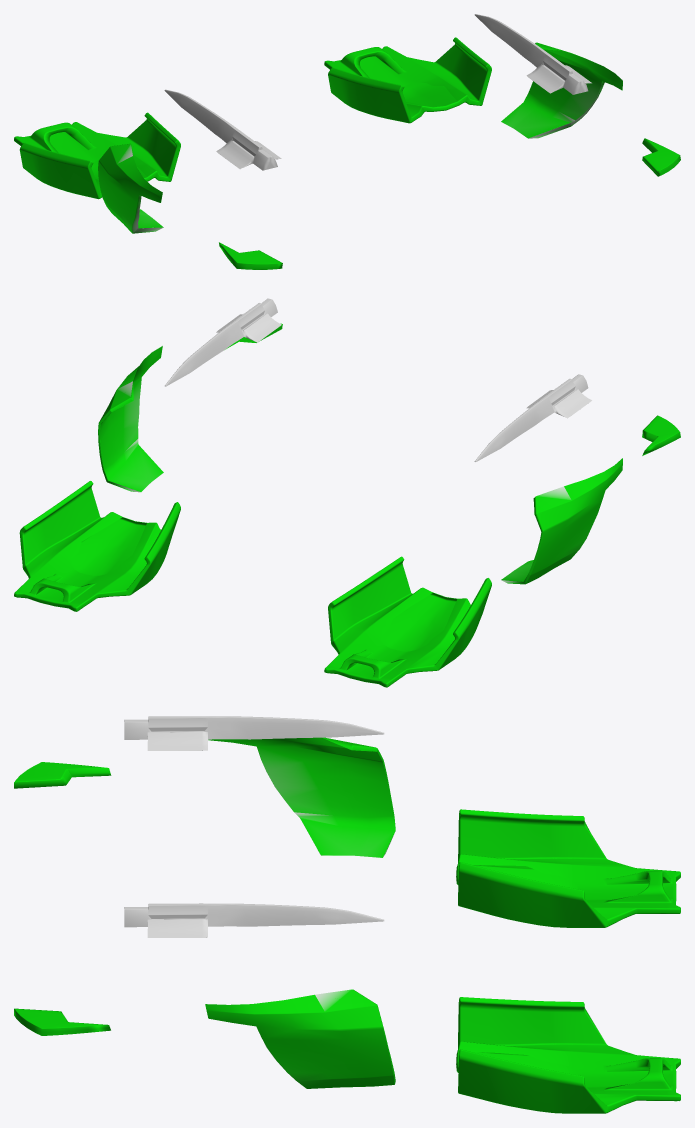
File: LunaRacer_Bodykit_LOD0.fbx
3 views of the same model, one above another, from view 1: azimuth 30°, elevation 25°; view 2: azimuth 150°, elevation 25°; view 3: azimuth 270°, elevation 25° (orthographic). The views are drawn at different scales.
Visible parts, largest first — view 1: SM_LunaRacer_BodyKit_LOD0; view 2: SM_LunaRacer_BodyKit_LOD0; view 3: SM_LunaRacer_BodyKit_LOD0.
Boxes of the visible parts, x1,y1,x2,y2 form: SM_LunaRacer_BodyKit_LOD0: (14, 14, 680, 269); SM_LunaRacer_BodyKit_LOD0: (14, 298, 680, 687); SM_LunaRacer_BodyKit_LOD0: (14, 716, 680, 1113).
Size of the model in its own units: 3.81 by 3.8 by 1.16.
